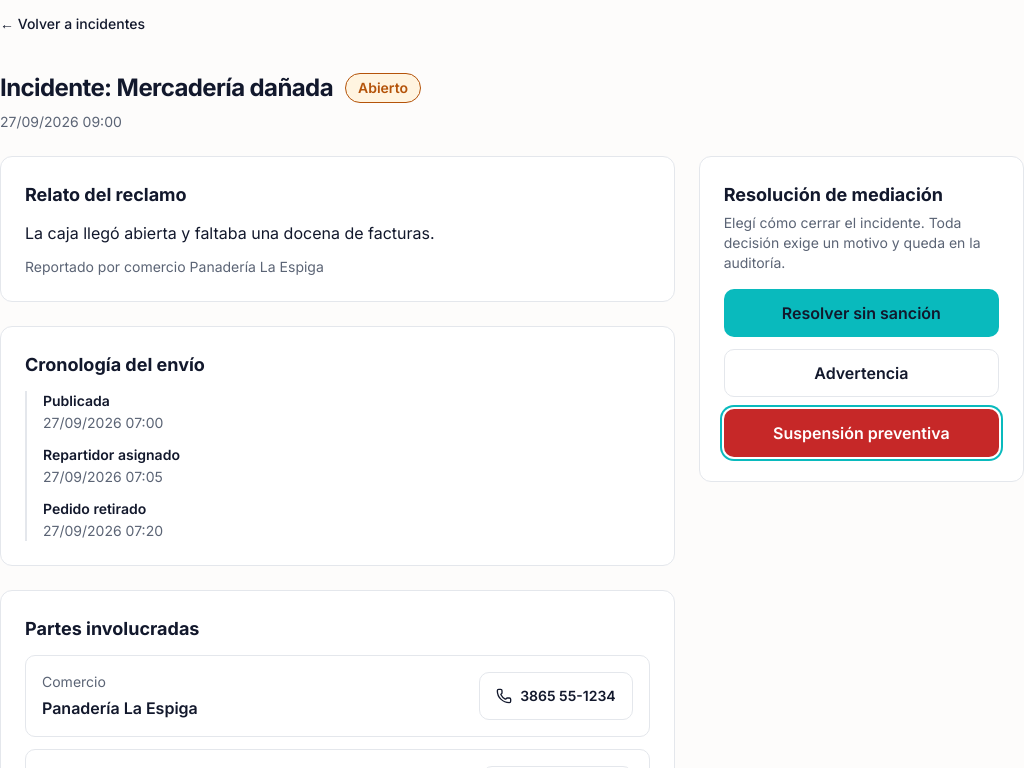
Scenario: PR113-H07/H08: Dialogs de resolución de A05 › preventive_suspension: Escape cierra el Dialog y el foco vuelve al mismo botón
The width and height of the screenshot is (1024, 768).
Click the button "Suspensión preventiva".
click(861, 433)  # box [724,409,999,457]
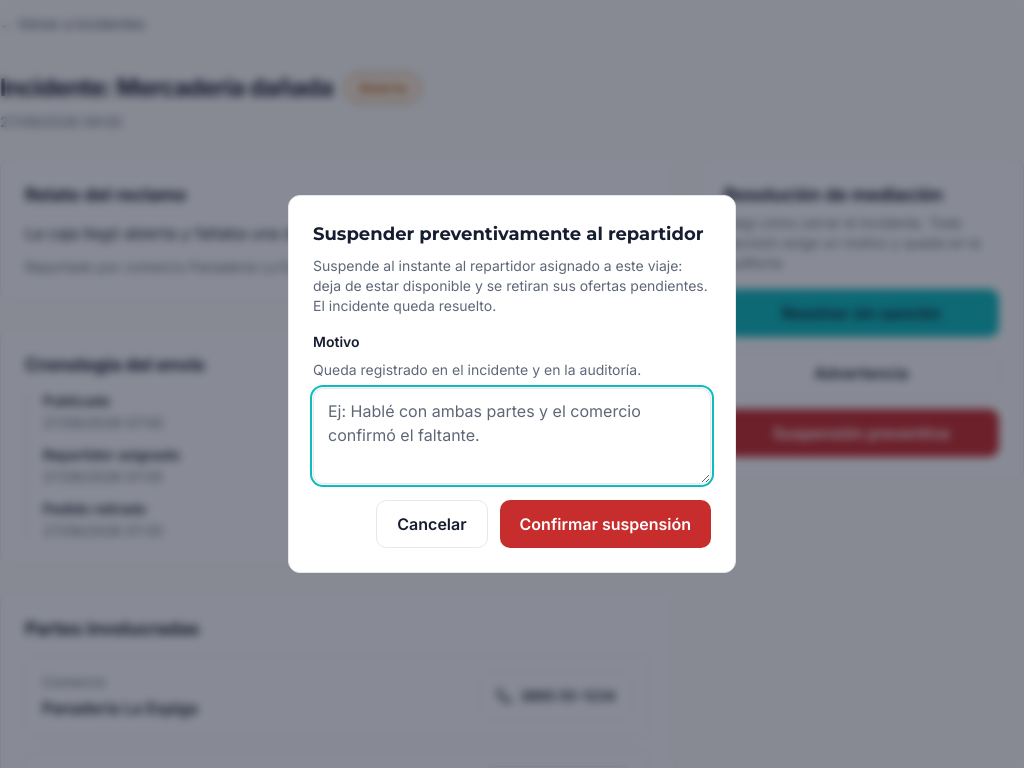
Expected: the text box labelled "Motivo" is shown, [313,388,711,484]
Press Escape in the dialog, box [288,195,736,573]
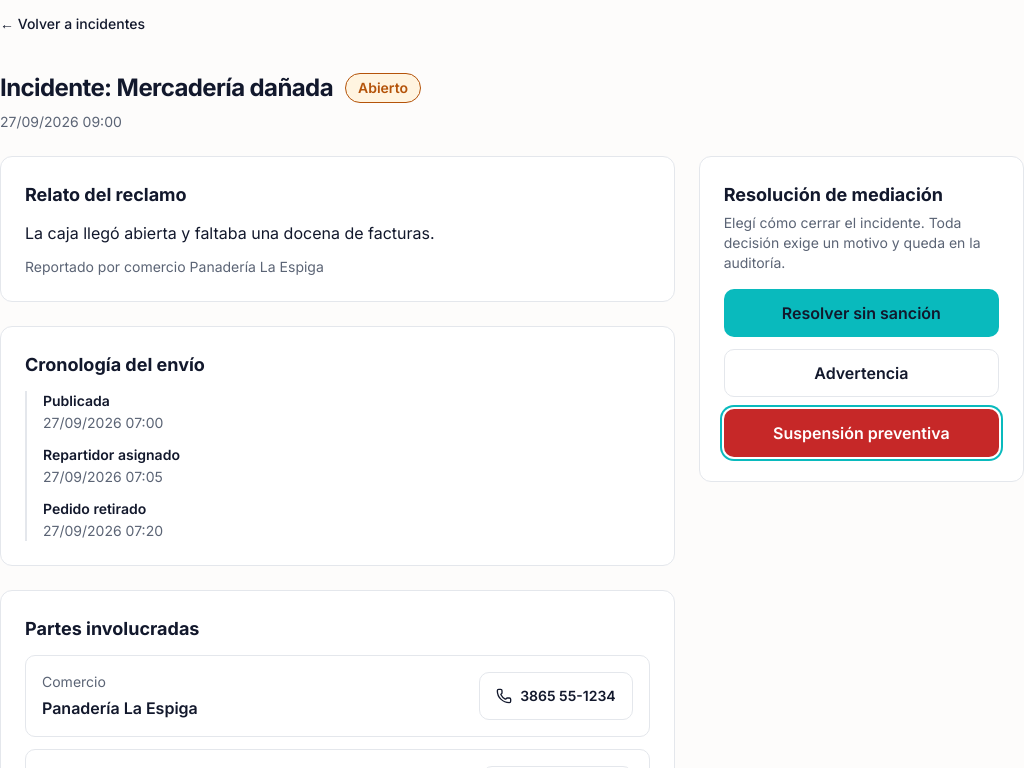
Expected: the dialog is gone
